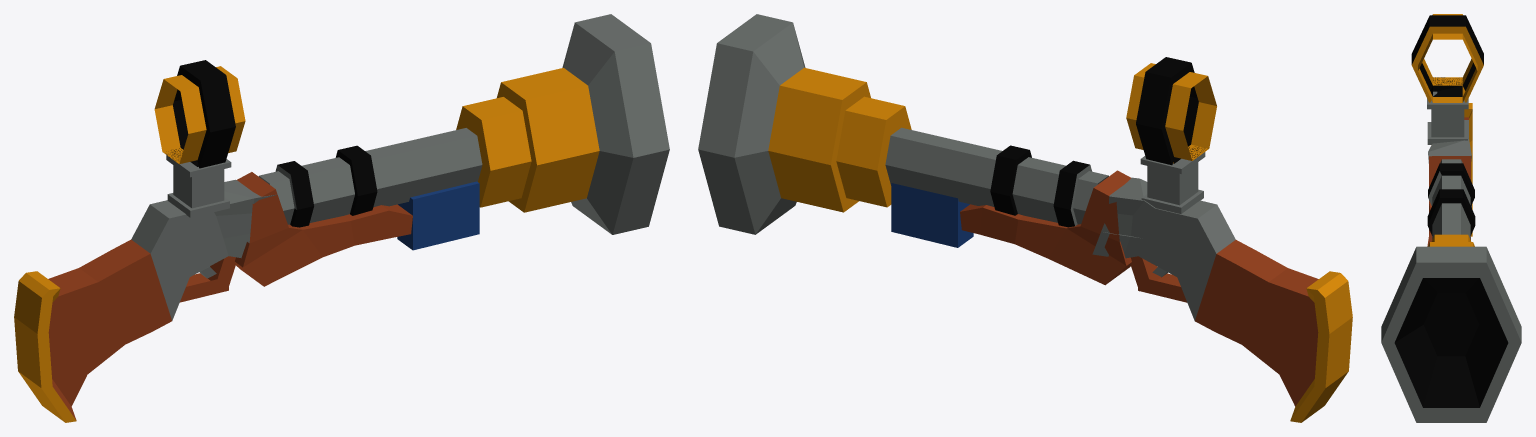
File: thunder_sniper.glb
3 renders of one model, left to right at view 1: azimuth 30°, elevation 25°; view 2: azimuth 150°, elevation 25°; view 3: azimuth 270°, elevation 25°, orthographic. The views are drawn at different scales.
Parts seen in each view (by area): view 1: handguard, magzine; view 2: handguard, magzine; view 3: handguard.
Boxes of the visible parts, x1,y1,x2,y2 form: handguard: (14,14,669,422); magzine: (397,181,479,250); handguard: (698,14,1352,422); magzine: (891,183,973,247); handguard: (1381,14,1521,422).
Size of the model in its own units: 4.22 by 2.07 by 0.9621.
